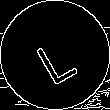L_NW: (29, 25, 81, 85)
